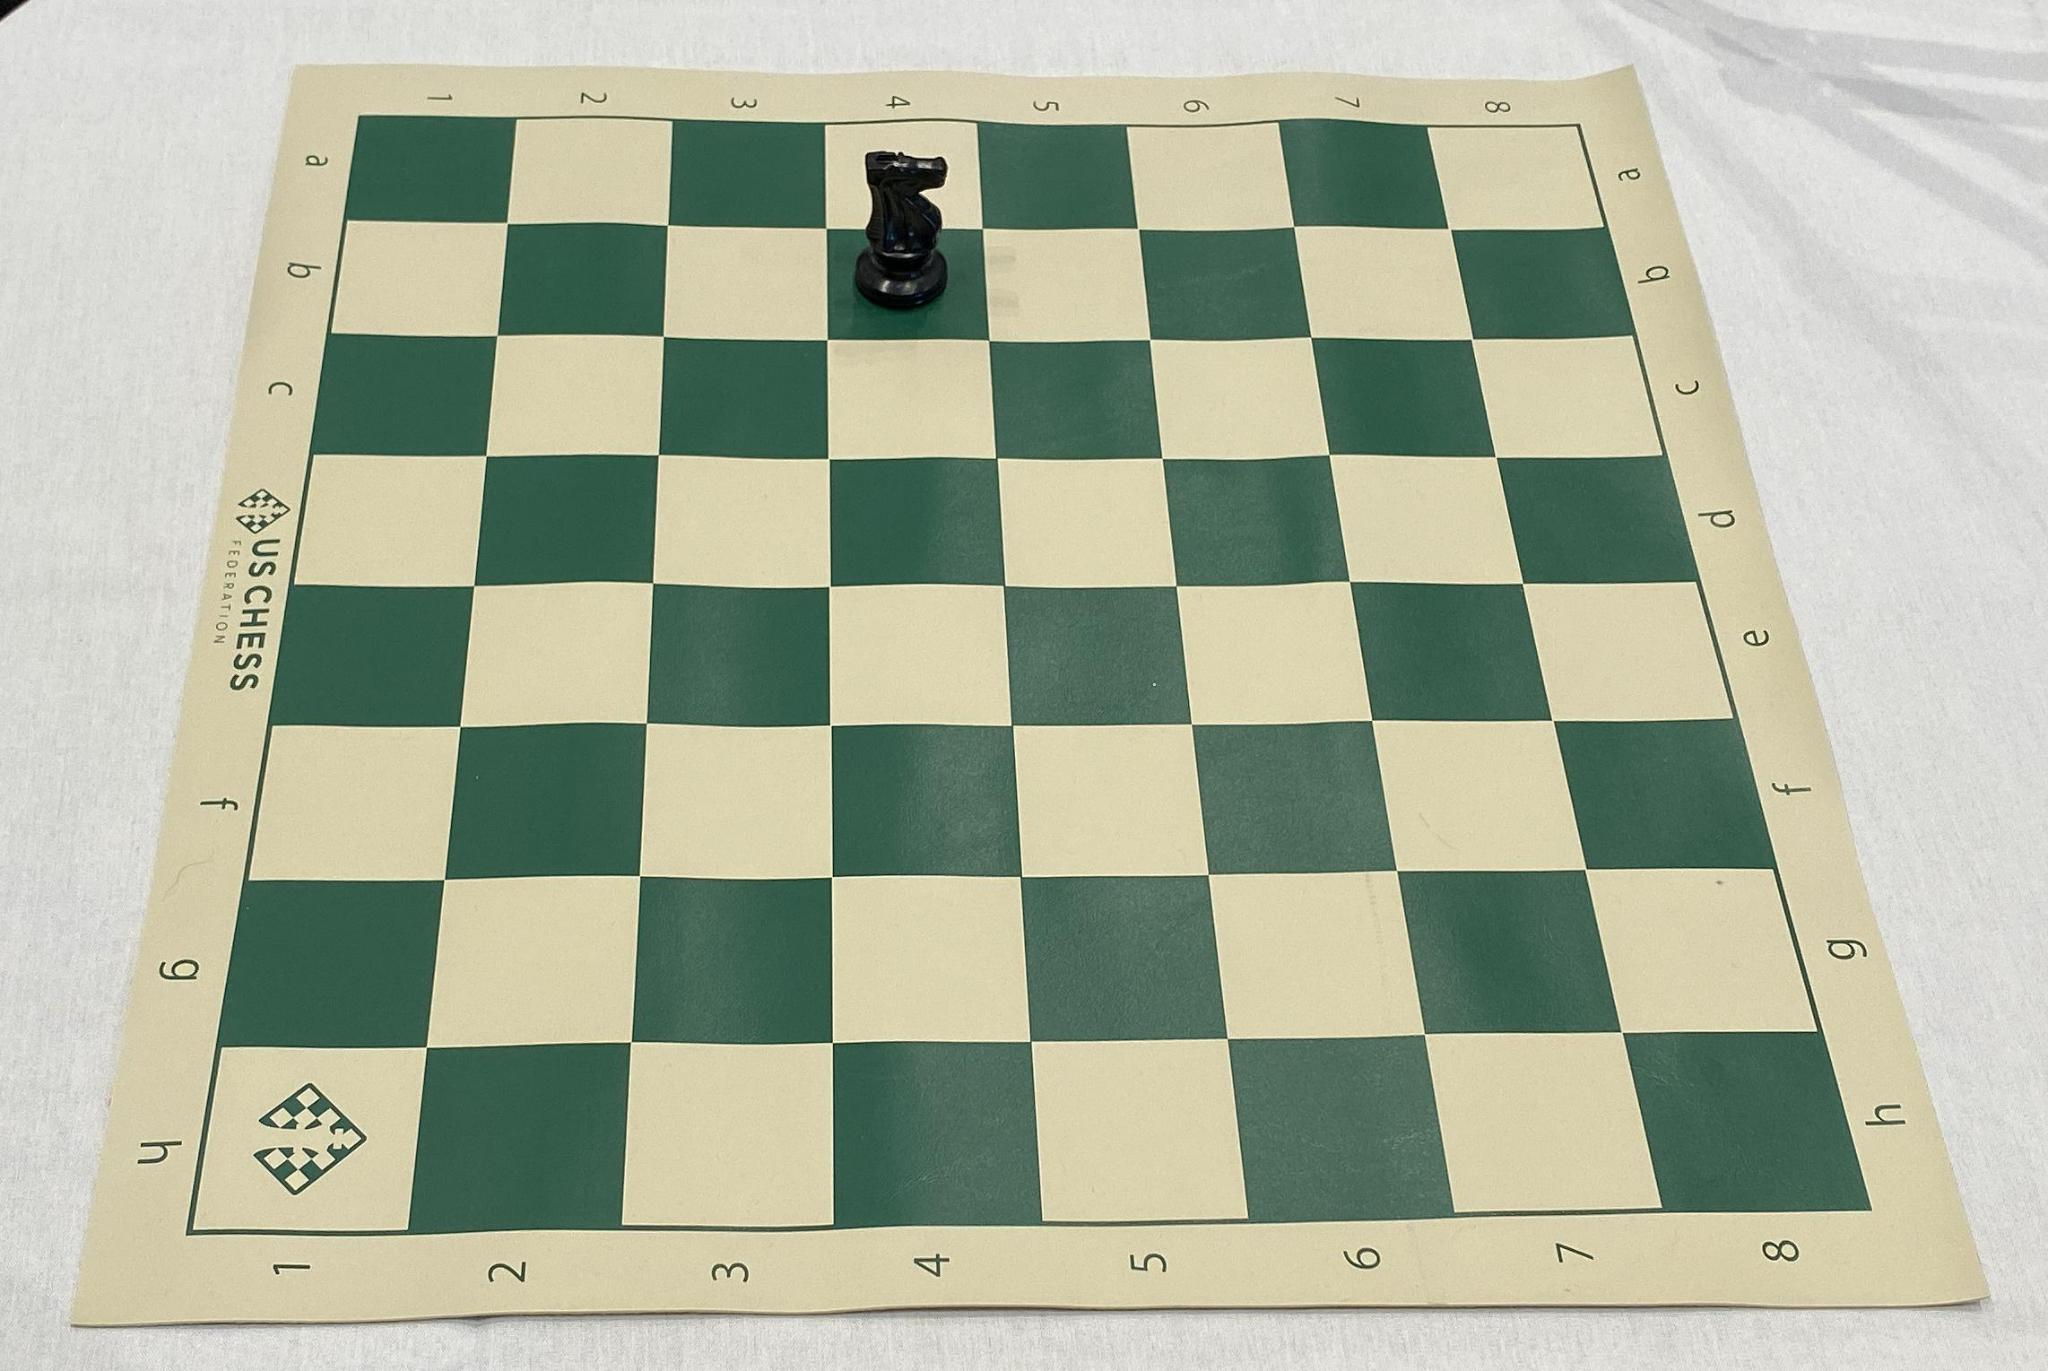corner: (134, 1183, 236, 1281), (309, 62, 411, 160), (1815, 1160, 1917, 1258), (1528, 70, 1629, 168)
